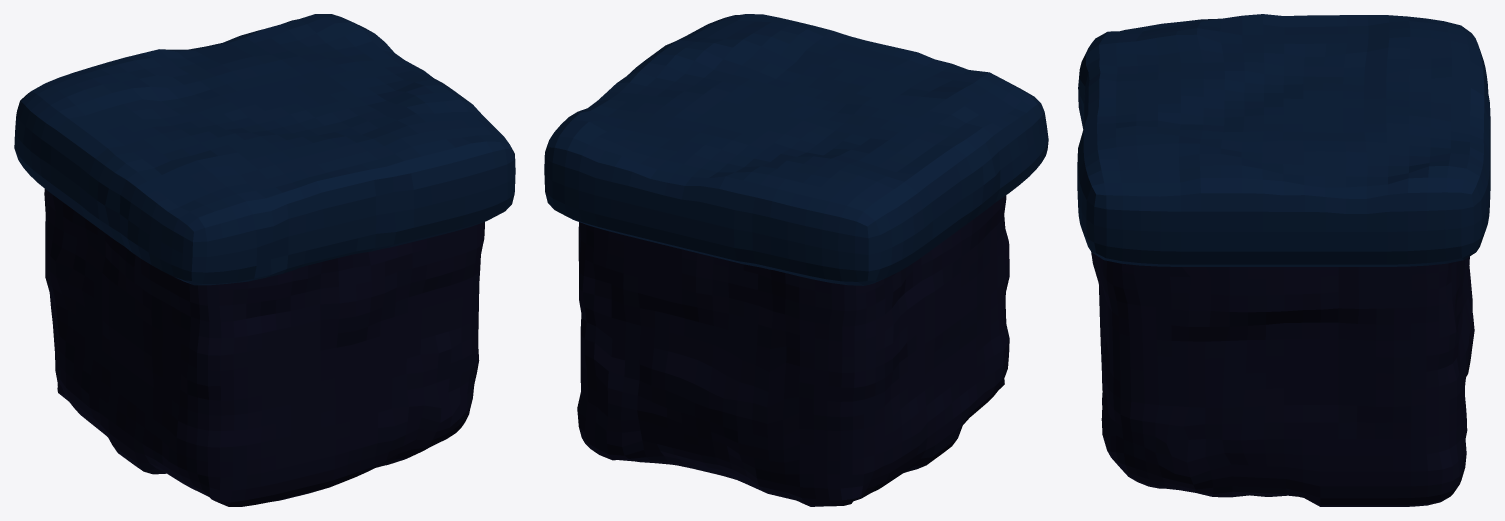
Rendered from st3_ground1.fbx.
3 renders of one model, left to right at view 1: azimuth 30°, elevation 25°; view 2: azimuth 150°, elevation 25°; view 3: azimuth 270°, elevation 25°, orthographic. The views are drawn at different scales.
Parts seen in each view (by area): view 1: block2_grass_1; view 2: block2_grass_1; view 3: block2_grass_1.
Part boxes in pixels (bbox=[...]): block2_grass_1: bbox=[14, 14, 515, 506]; block2_grass_1: bbox=[544, 14, 1048, 506]; block2_grass_1: bbox=[1077, 14, 1490, 506].
Bounding box in the file's own units: 239 × 222 × 227.
